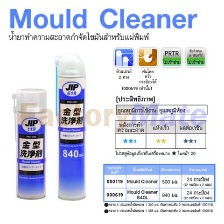aerosol_cans: (51, 51, 88, 201), (10, 86, 50, 201)
